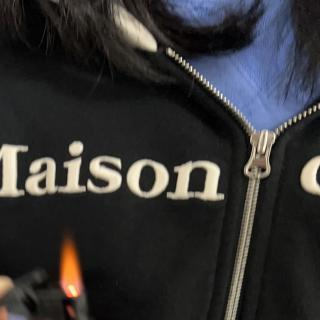fire: (58, 230, 84, 298)
